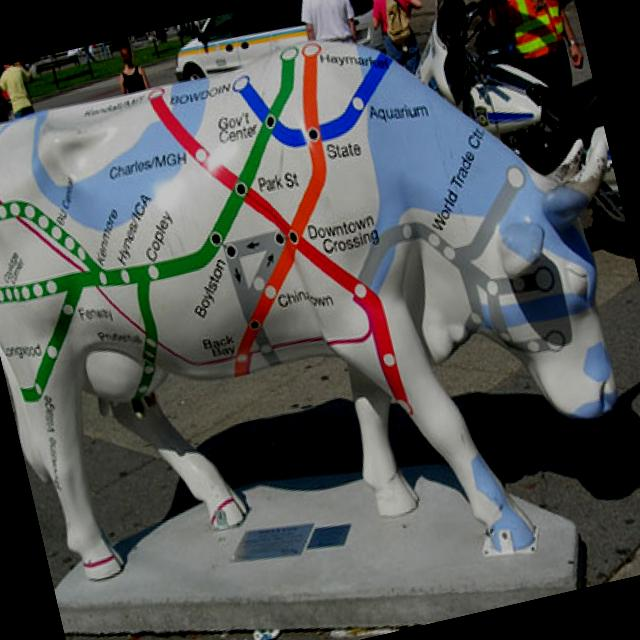Vehicle: (393, 0, 610, 192), (161, 0, 388, 102)
